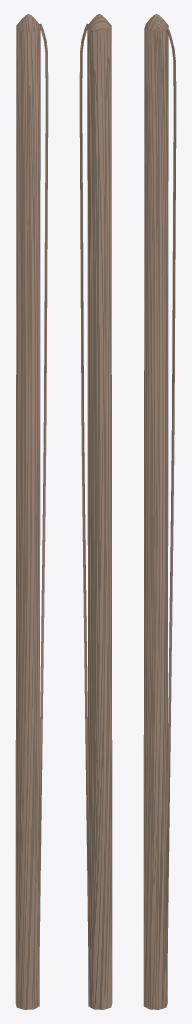
The model's file is flag_1953.glb.
The picture shows the model from 3 angles, left to right: view 1: azimuth 30°, elevation 25°; view 2: azimuth 150°, elevation 25°; view 3: azimuth 330°, elevation 25°; orthographic projection.
Visible parts, largest first — view 1: drapeau_1953.0; view 2: drapeau_1953.0; view 3: drapeau_1953.0.
Boxes of the visible parts, bbox=[...] form: drapeau_1953.0: bbox=[15, 14, 48, 1009]; drapeau_1953.0: bbox=[79, 14, 112, 1009]; drapeau_1953.0: bbox=[143, 14, 176, 1009].
Bounding box in the file's own units: 0.2186 × 6.56 × 0.15.
1 material, 1 textured.
